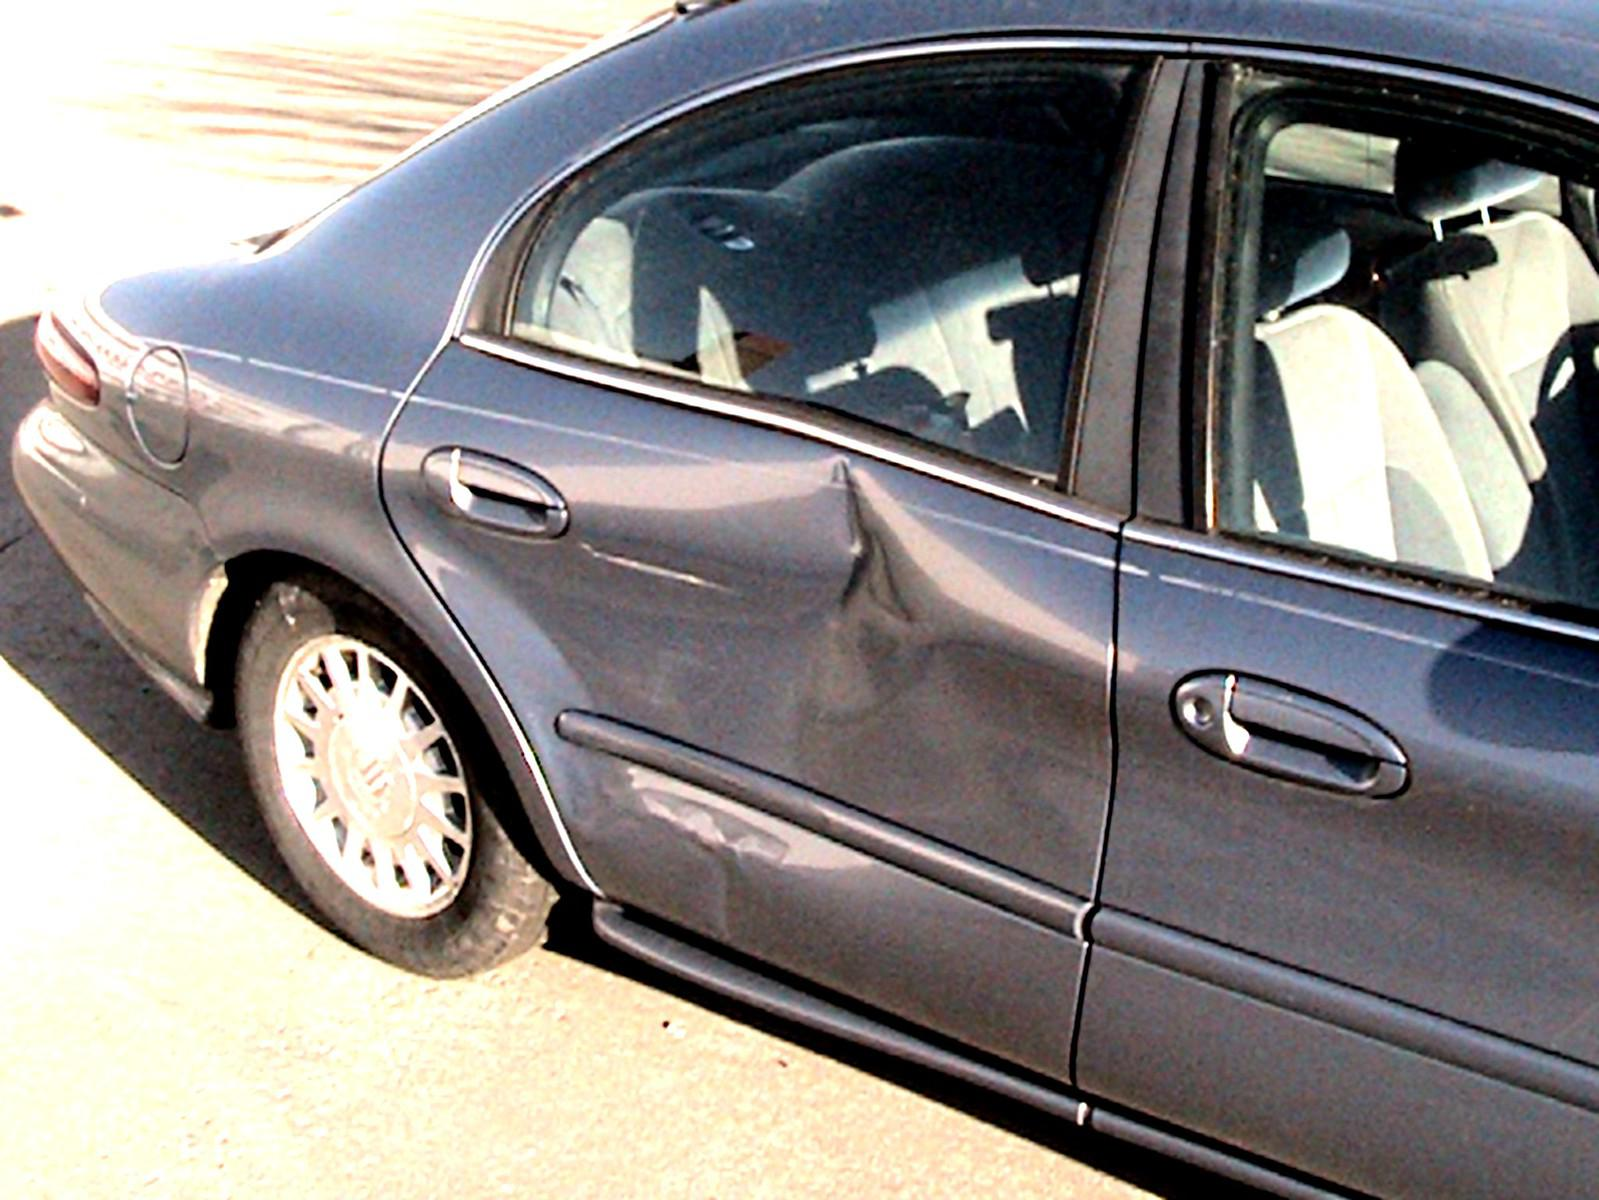doorouter-dent: (438, 323, 1108, 1066)
